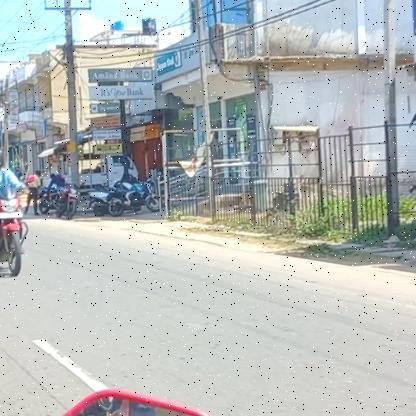motorcycle: (0, 186, 33, 278)
